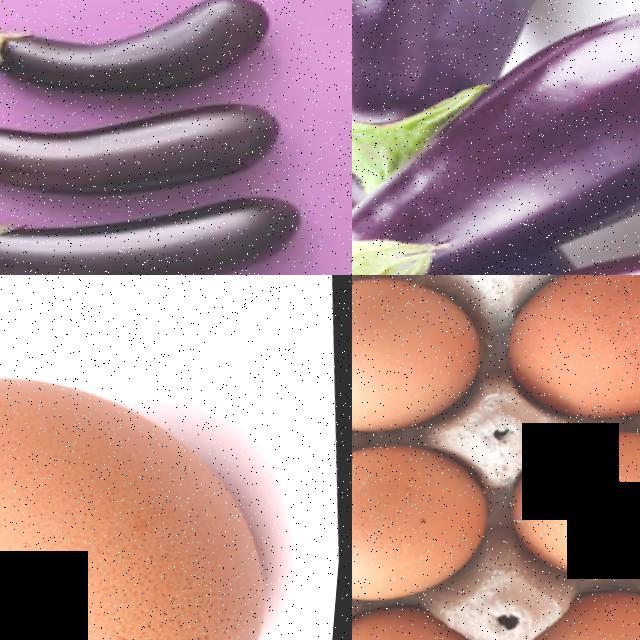egg_: (0, 332, 309, 640), (352, 430, 501, 614), (352, 275, 492, 443), (506, 416, 640, 591), (497, 275, 640, 426), (352, 597, 512, 640)
eggplant: (458, 0, 640, 240), (0, 73, 297, 218), (0, 176, 319, 275), (0, 0, 278, 110), (352, 0, 576, 133), (352, 219, 640, 275)
